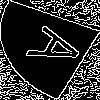A: (25, 25, 98, 76)
